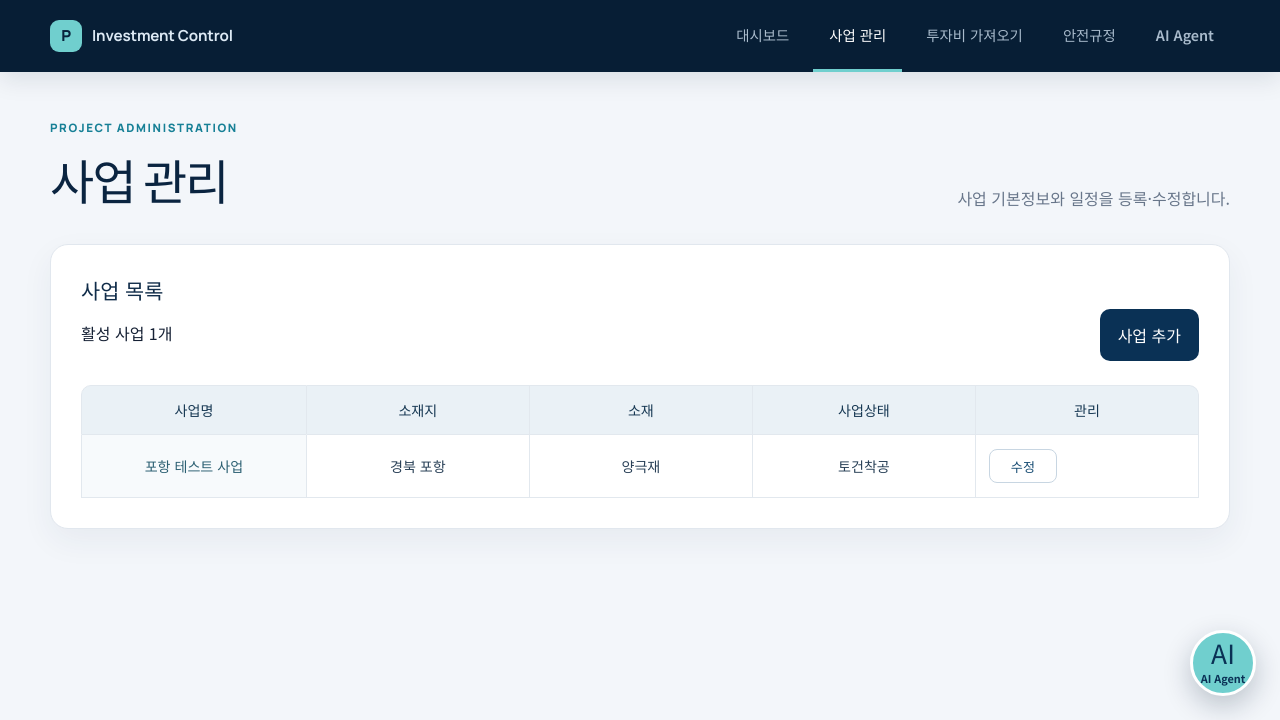
사업 관리 › 실적일이 모두 비어 있으면 수동 상태와 실적 없음의 불일치를 경고한다
The image size is (1280, 720).
Click the link with aria-label "포항 테스트 사업 수정" at x=1023, y=466, box x1=989 y1=449 x2=1057 y2=483
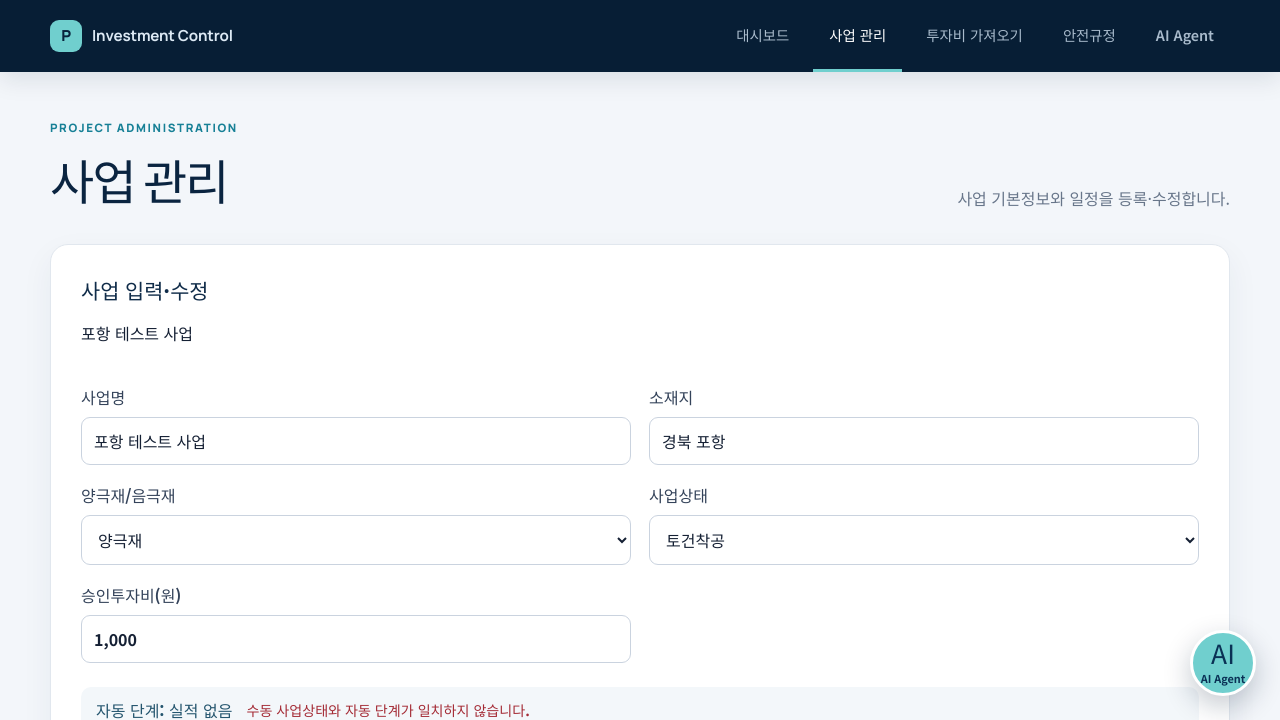
Expected: the message reads "수동 사업상태와 자동 단계가 일치하지 않습니다.", x1=246 y1=700 x2=530 y2=719
